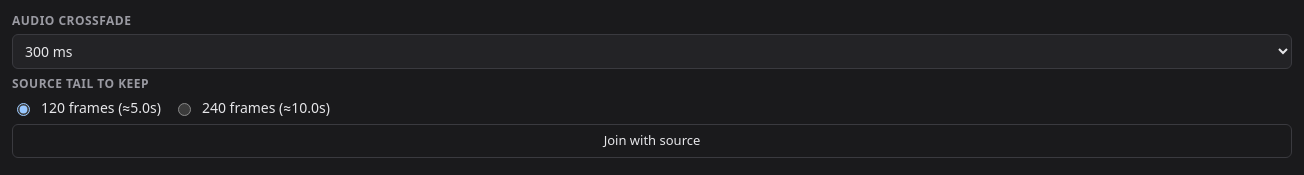
Test: JoinControls › idle -> joining -> joined: the Join button gives way to Unjoin
The width and height of the screenshot is (1304, 175).
Click the button "Join with source".
click(652, 141)  # box [12,124,1292,158]
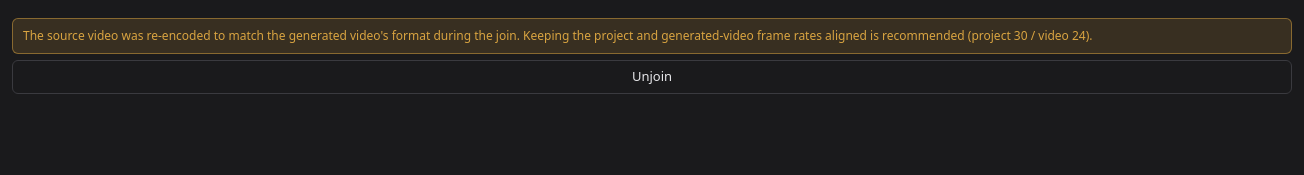
Result: the button "Unjoin" is shown at [12,60,1292,94]
Result: the button "Join with source" is gone
